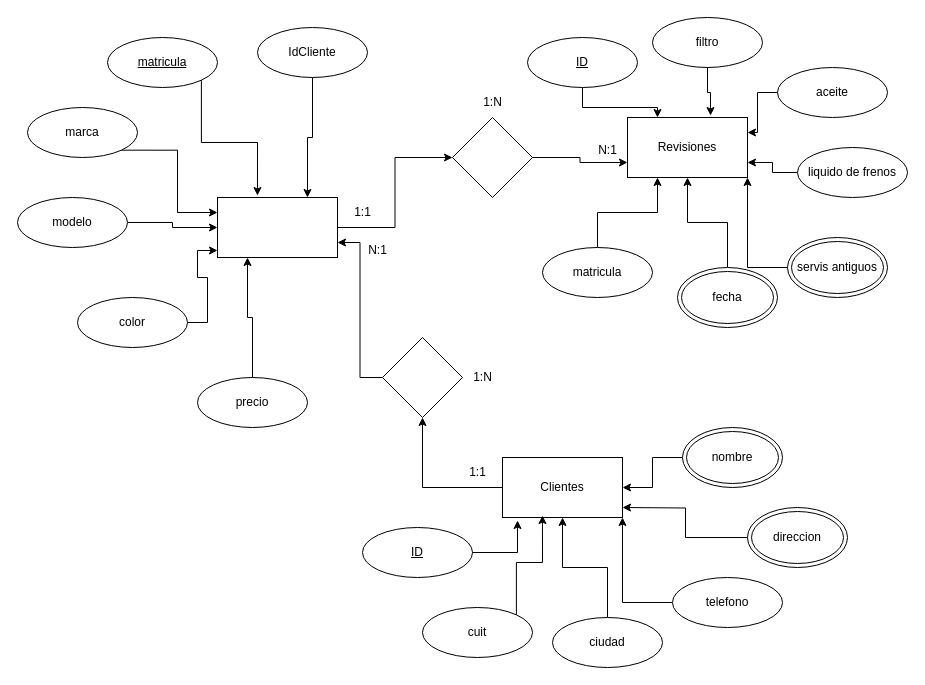
This 925x685 diagram has some shape labels left out. Here are the shapes that lost their labels. From the top down, the centre of each, then its label:
point 492,157: Realiza
point 277,227: Autos
point 422,377: Compra
